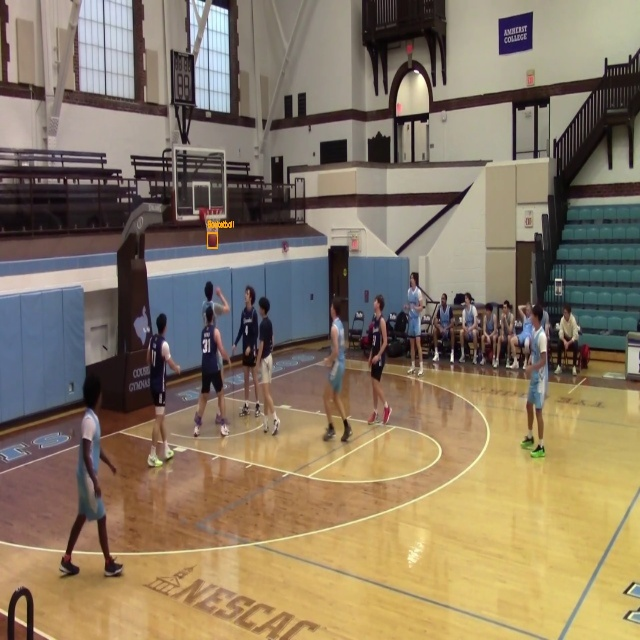Basketball: (207, 233, 218, 248)
